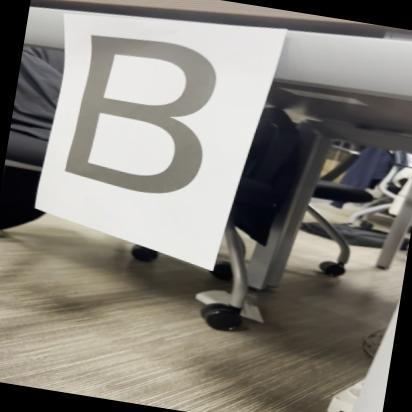seat: (48, 15, 258, 218)
